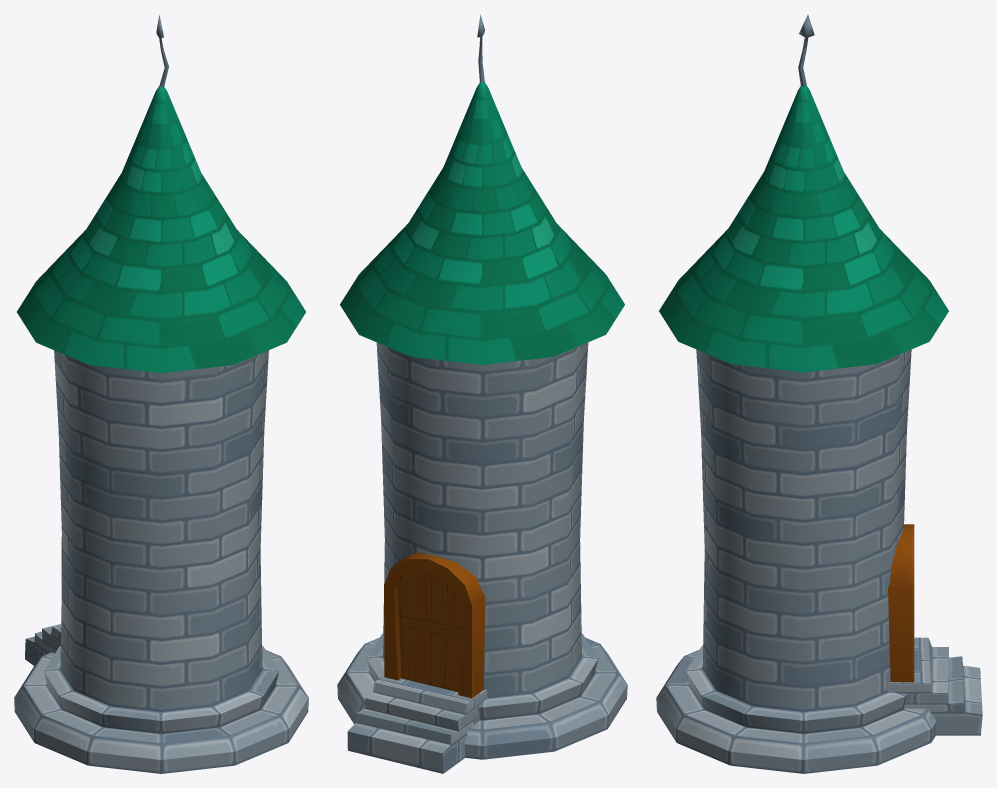
The model's file is HOS0110021.fbx.
The picture shows the model from 3 angles, left to right: view 1: azimuth 30°, elevation 25°; view 2: azimuth 150°, elevation 25°; view 3: azimuth 270°, elevation 25°; orthographic projection.
Visible parts, largest first — view 1: smHOS0110021; view 2: smHOS0110021; view 3: smHOS0110021.
Part boxes in pixels (x1,y1,x2,y2): smHOS0110021: (14, 14, 308, 773); smHOS0110021: (337, 14, 627, 773); smHOS0110021: (656, 14, 982, 773).
Bounding box in the file's own units: 462 × 1205 × 511.
1 material, 1 textured.
